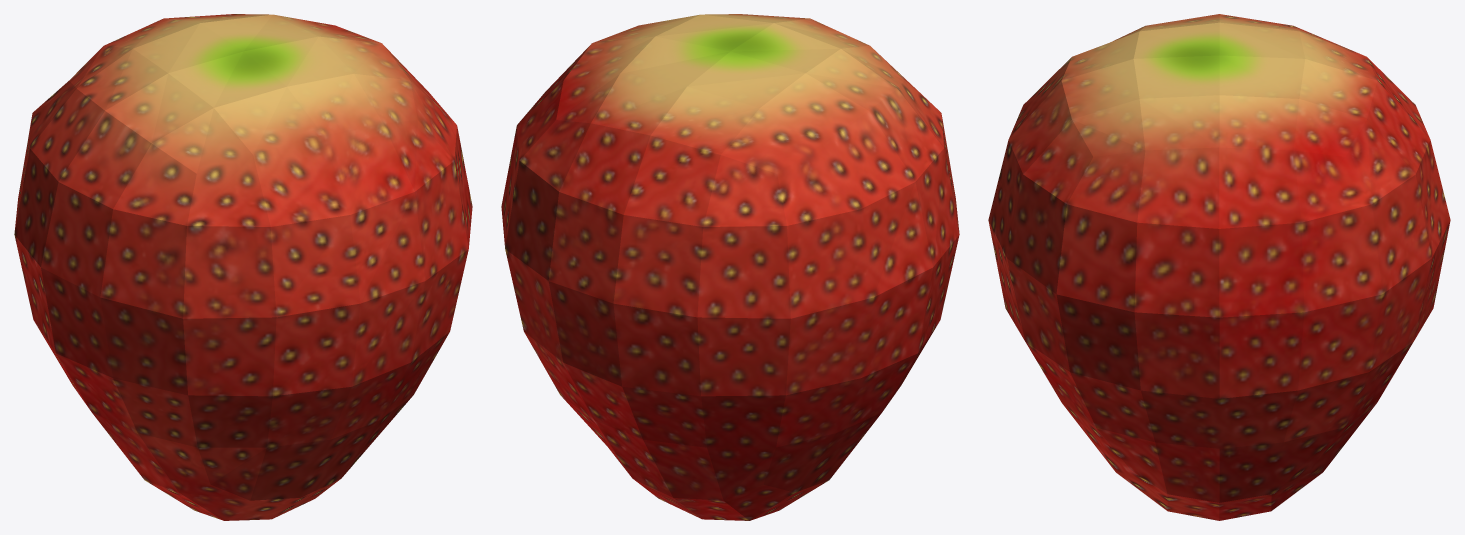
The model's file is strawberry.obj.
3 views of the same model, side by side, from view 1: azimuth 30°, elevation 25°; view 2: azimuth 150°, elevation 25°; view 3: azimuth 270°, elevation 25° (orthographic).
Size of the model in its own units: 0.9443 by 1.02 by 0.9443.
